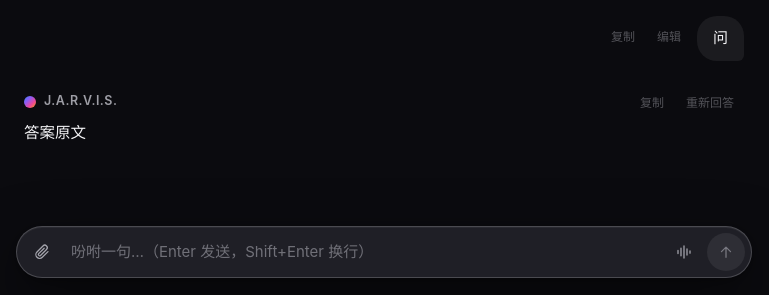
Test: 对话体验 › 复制回答后按钮短暂显示「已复制」
The width and height of the screenshot is (769, 295).
Step 1. Click the button titled "复制回答原文" in the row of "J.A.R.V.I.S." → (652, 102), box [630,89,674,115]
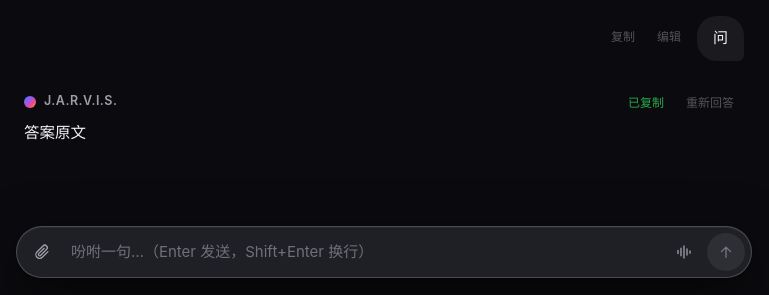
Expected: the button titled "复制回答原文" reads "已复制", [618,89,674,115]
